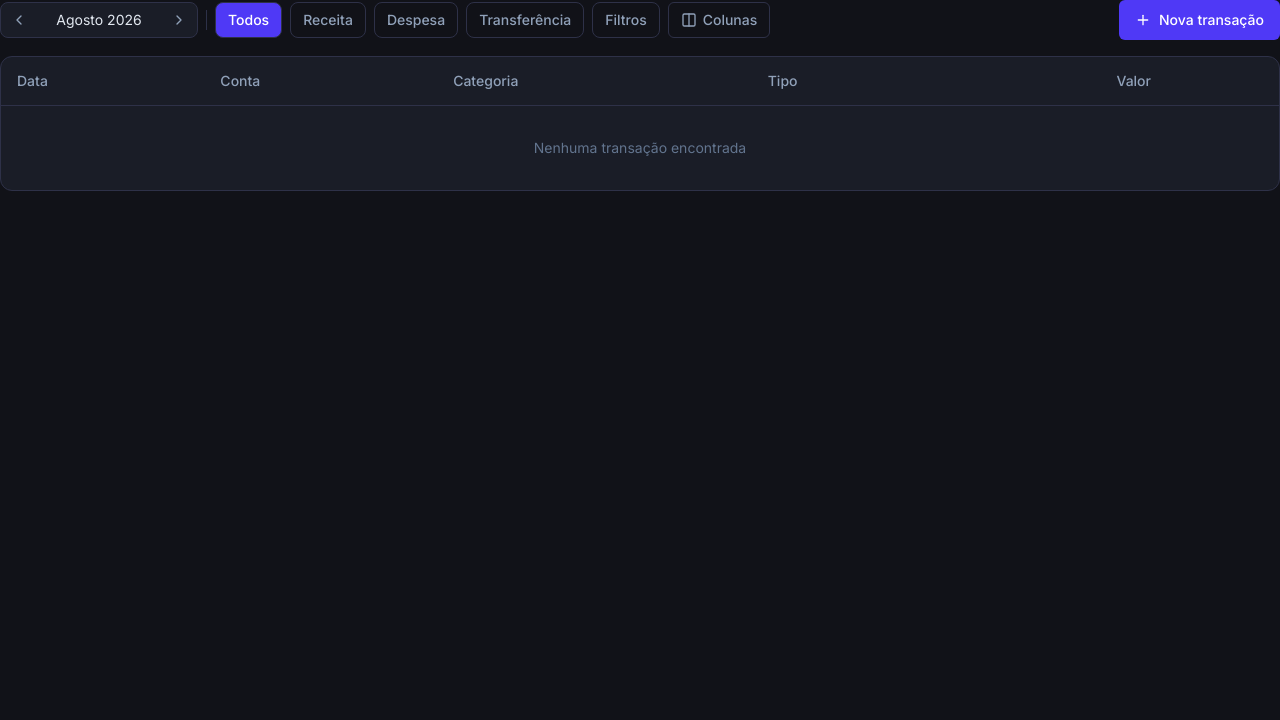
Scenario: Transactions › exibe erro de validação quando valor é inválido
The width and height of the screenshot is (1280, 720).
Click the button "Nova transação".
click(1200, 20)  # box [1119,0,1279,40]
(page scrolled)
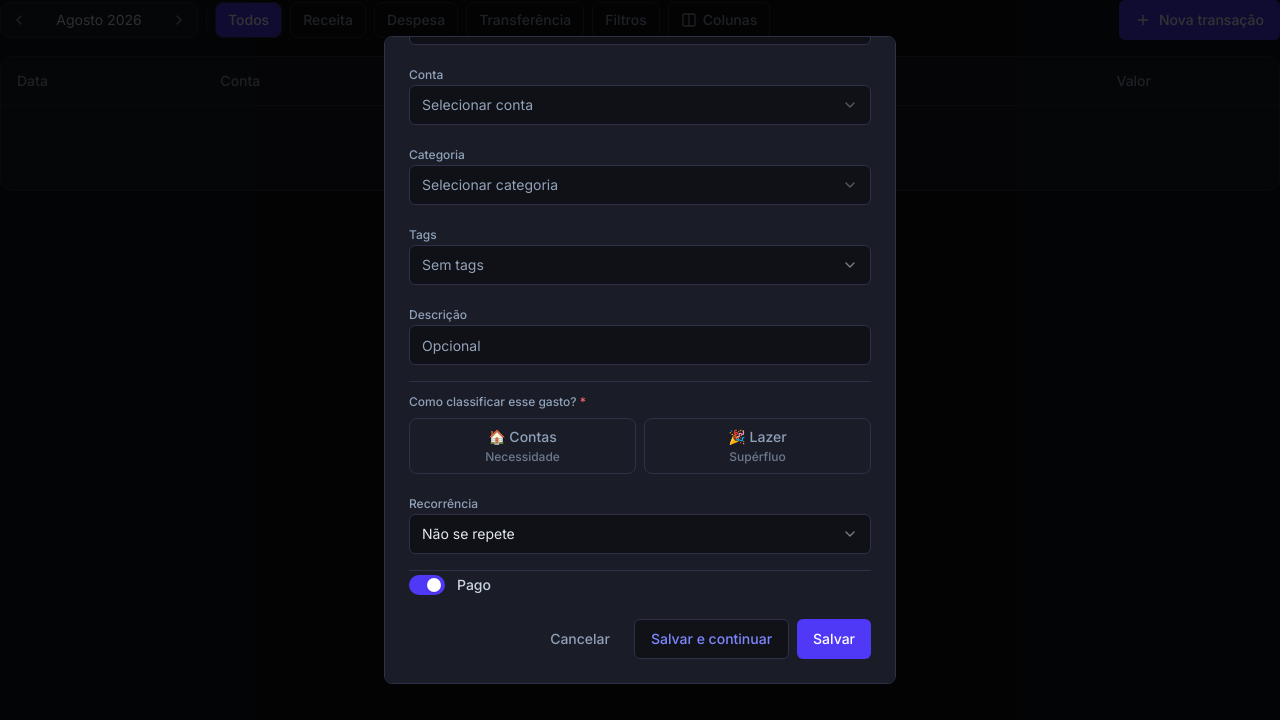
// Try to save without filling the amount (empty by default)
Click the button "Salvar".
click(834, 639)  # box [797,619,871,659]
(page scrolled)
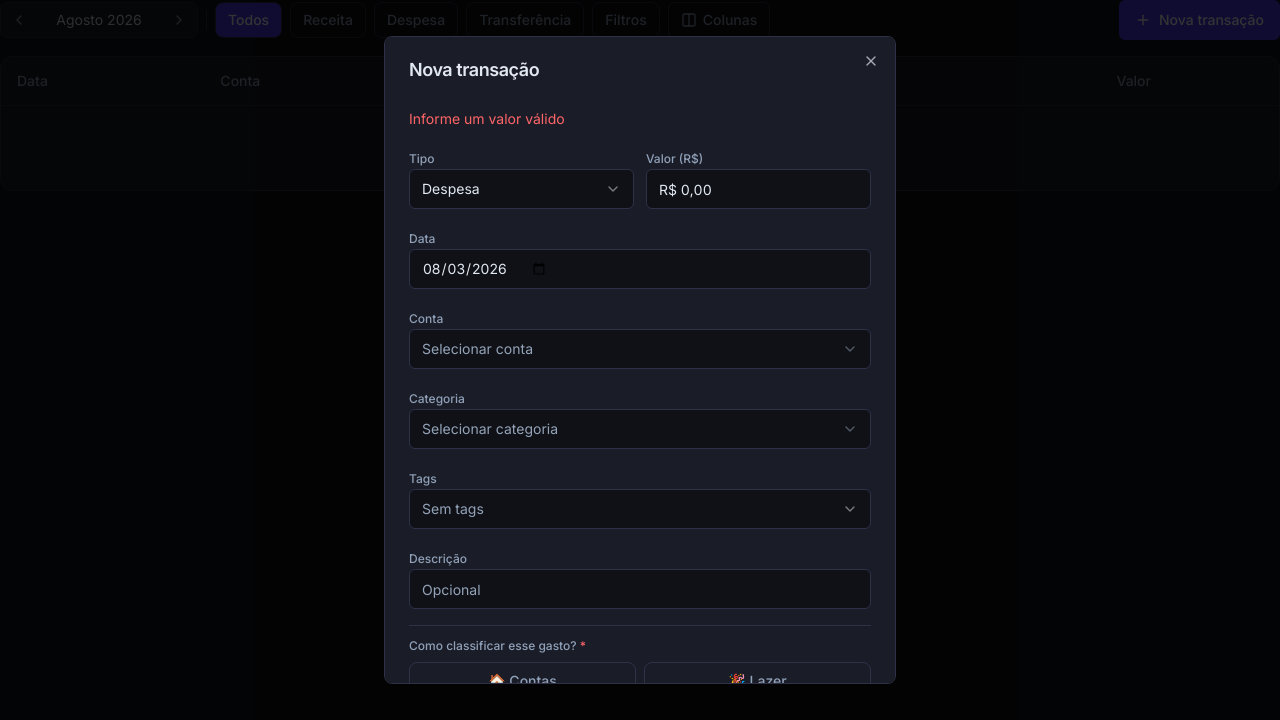
Result: the text "Informe um valor válido" is shown at [409,110,565,127]
